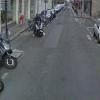Motorcycle: (29, 11, 48, 38)
